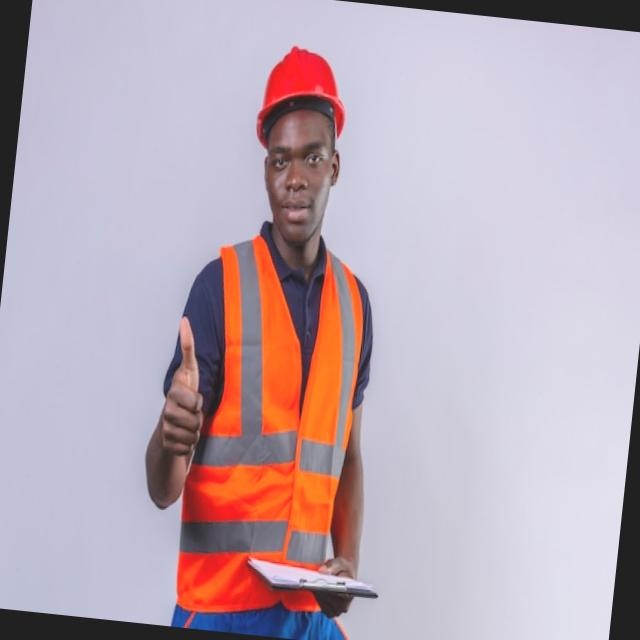helmet: (252, 35, 354, 152)
no-goggles: (254, 121, 348, 185)
vest: (170, 221, 368, 620)
